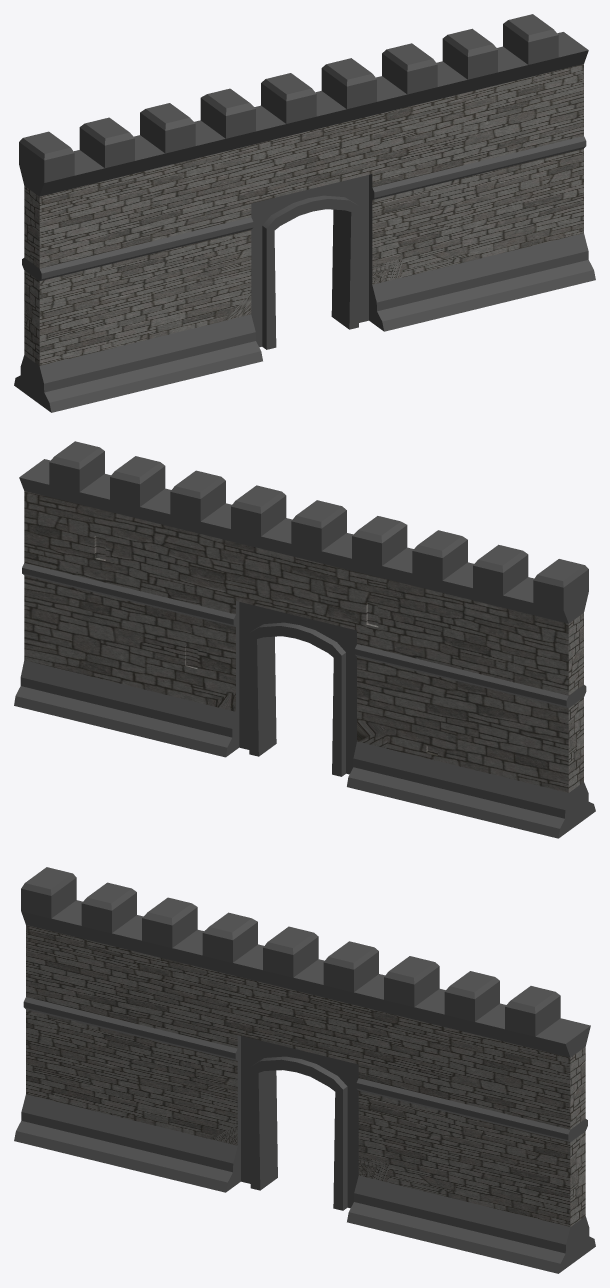
The model's file is wall_door.fbx.
3 views of the same model, one above another, from view 1: azimuth 30°, elevation 25°; view 2: azimuth 150°, elevation 25°; view 3: azimuth 330°, elevation 25° (orthographic).
Visible parts, largest first — view 1: wall, pCube1; view 2: wall, pCube1; view 3: wall, pCube1.
Part boxes in pixels (box(x1,y1,x2,y2)): wall: box(14, 14, 595, 412); pCube1: box(251, 175, 368, 349); wall: box(14, 441, 595, 838); pCube1: box(239, 602, 356, 776); wall: box(14, 867, 595, 1273); pCube1: box(241, 1036, 358, 1210).
Size of the model in its own units: 36.01 by 15.93 by 4.29.
